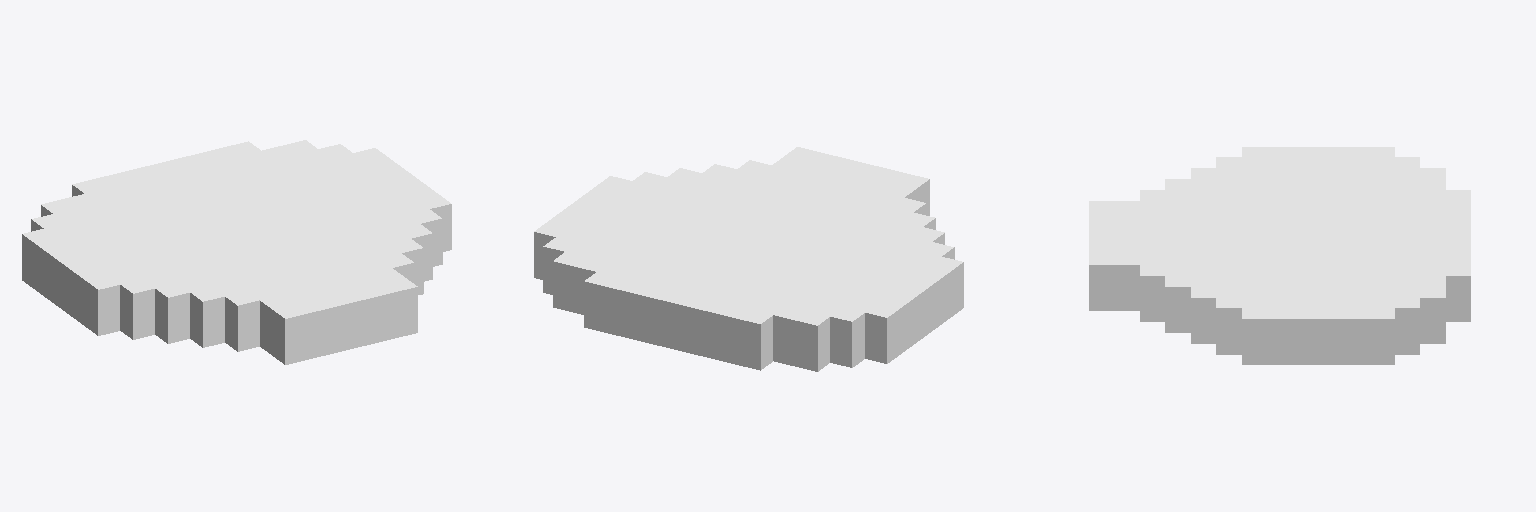
Rendered from Kamikaze.obj.
3 renders of one model, left to right at view 1: azimuth 30°, elevation 25°; view 2: azimuth 150°, elevation 25°; view 3: azimuth 270°, elevation 25°, orthographic.
Parts seen in each view (by area): view 1: object 1; view 2: object 1; view 3: object 1.
Part boxes in pixels (bbox=[...]): object 1: bbox=[22, 140, 451, 364]; object 1: bbox=[534, 147, 963, 371]; object 1: bbox=[1089, 147, 1470, 364].
Bounding box in the file's own units: 1.6 × 0.2 × 1.5.